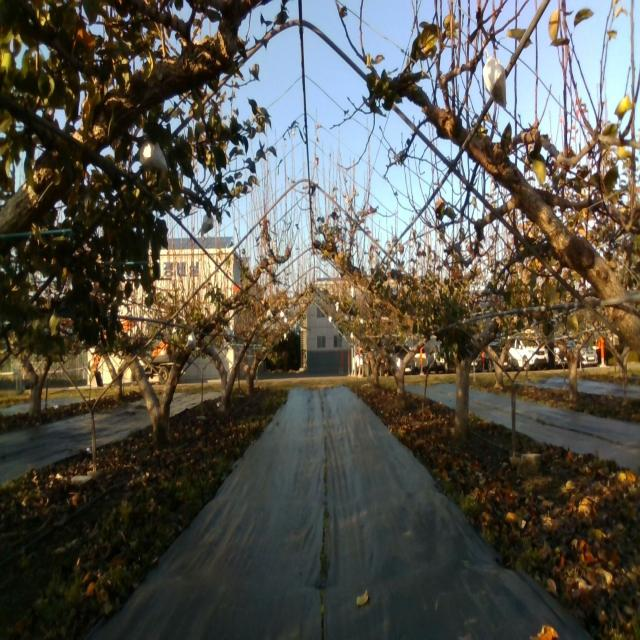pearbags: (482, 56, 507, 111), (140, 141, 168, 173), (201, 214, 214, 237), (186, 332, 196, 350)
